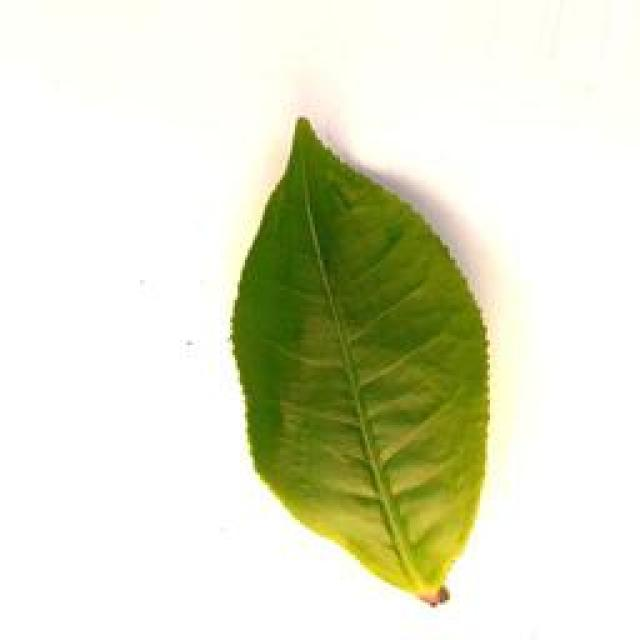Healthy: (233, 110, 499, 595)
